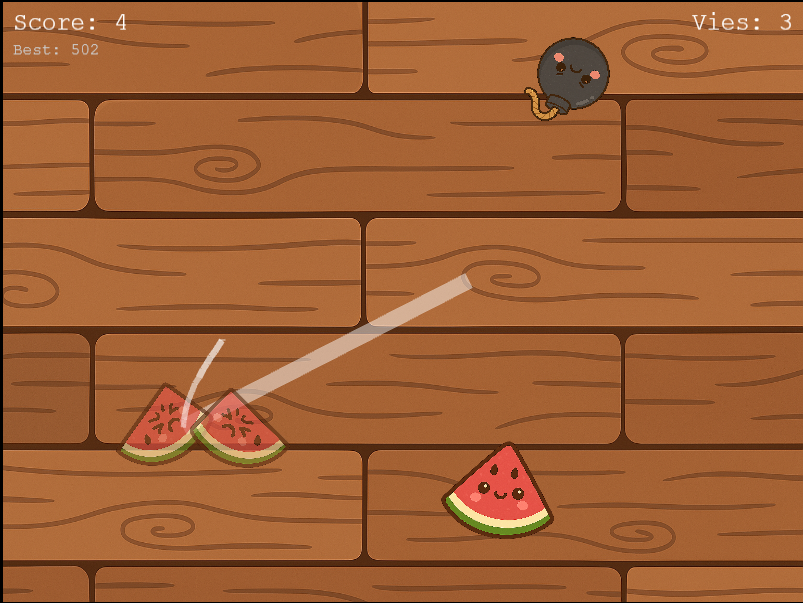bomb: (520, 32, 615, 125)
fruit: (442, 437, 562, 546)
